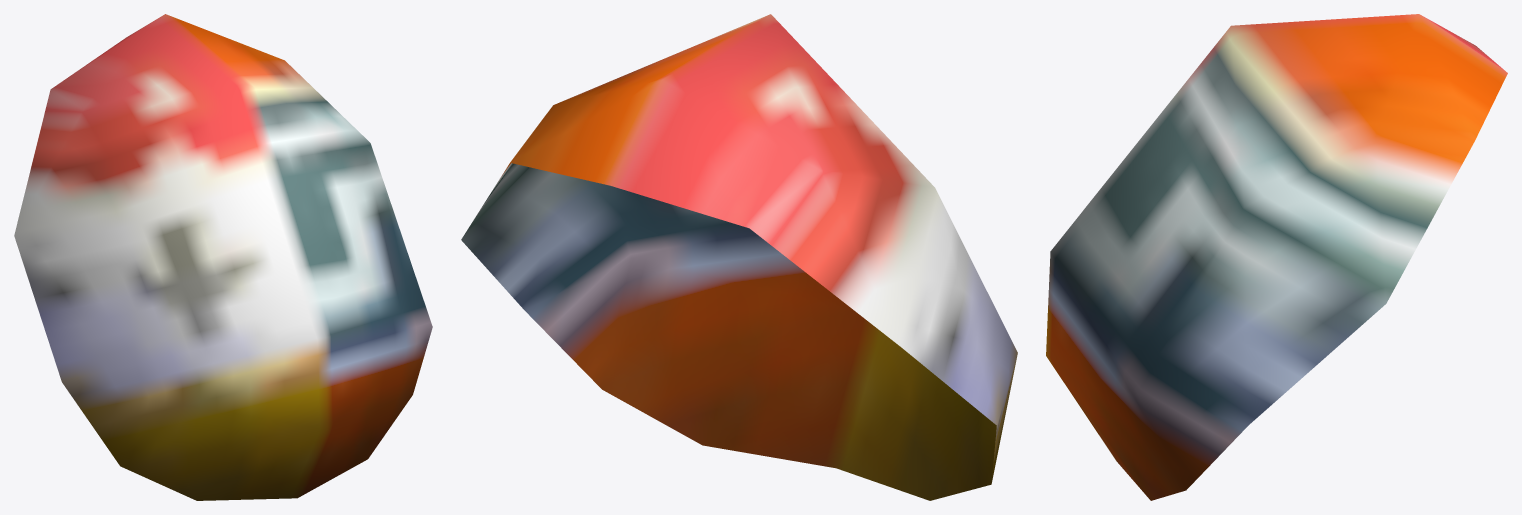
The model's file is fg_egg5_out.dae.
The picture shows the model from 3 angles, left to right: view 1: azimuth 30°, elevation 25°; view 2: azimuth 150°, elevation 25°; view 3: azimuth 270°, elevation 25°; orthographic projection. The views are drawn at different scales.
Visible parts, largest first — view 1: fg_egg5_out; view 2: fg_egg5_out; view 3: fg_egg5_out.
Part boxes in pixels (box(x1,y1,x2,y2)): fg_egg5_out: box(14, 14, 432, 500); fg_egg5_out: box(461, 14, 1017, 500); fg_egg5_out: box(1046, 14, 1507, 500).
Size of the model in its own units: 11.35 by 11.86 by 11.11.
Materials: 1 (1 with a texture image).
